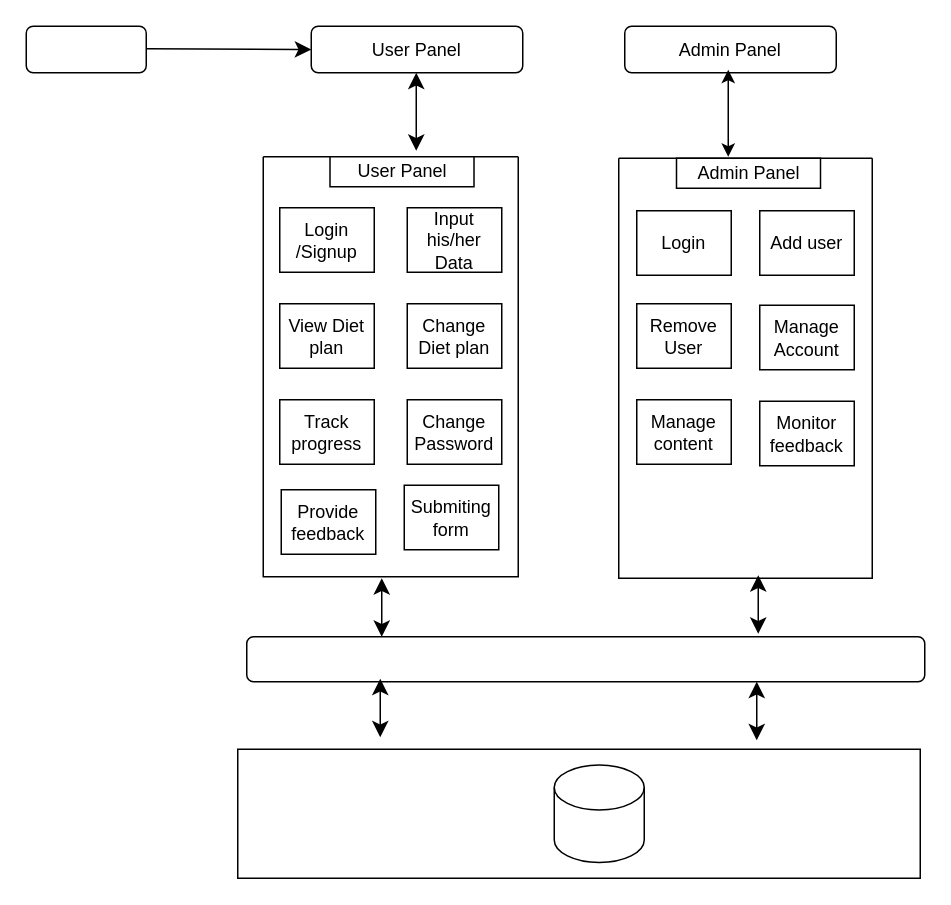
Image size: 951x905. Some labels were removed from this diagram. Each missing label, with the box of its shape:
Database: (553, 764, 644, 862)
Database Access: (245, 635, 925, 682)
Users: (25, 25, 146, 73)
